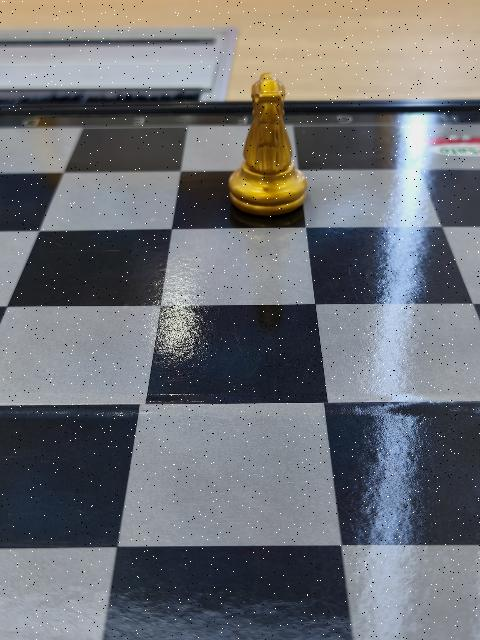black_knight: (228, 74, 309, 211)
